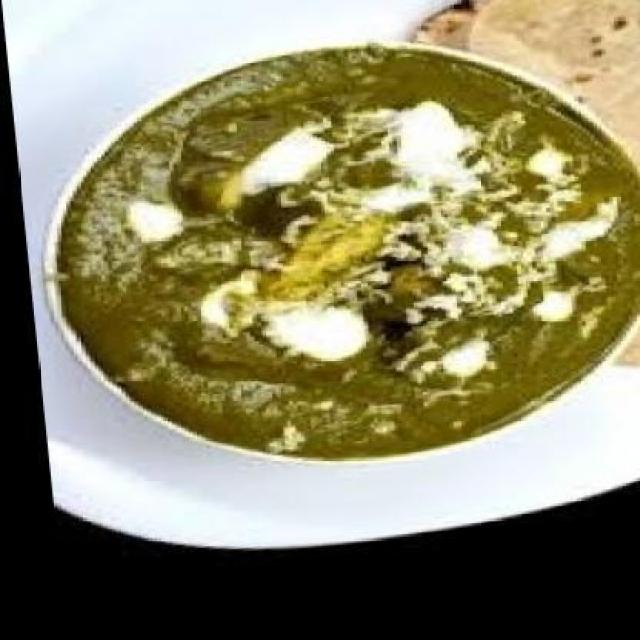palak_paneer: (34, 33, 640, 484)
